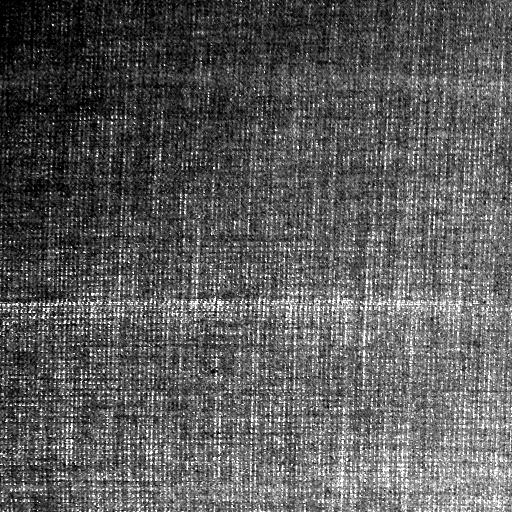fabric_missing_pick: (4, 298, 498, 320)
